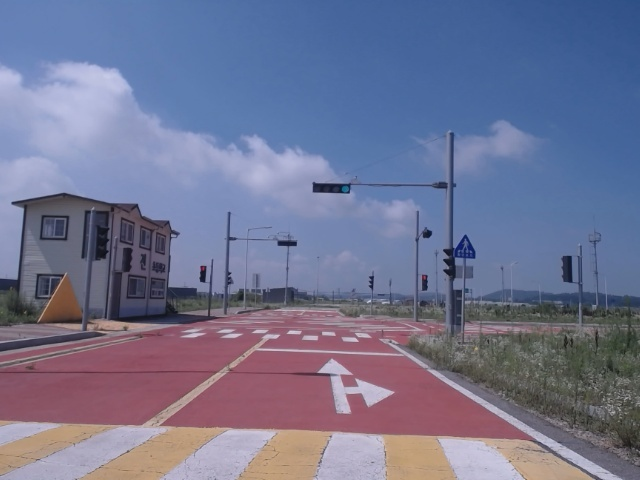straight_green_4: (312, 184, 351, 194)
